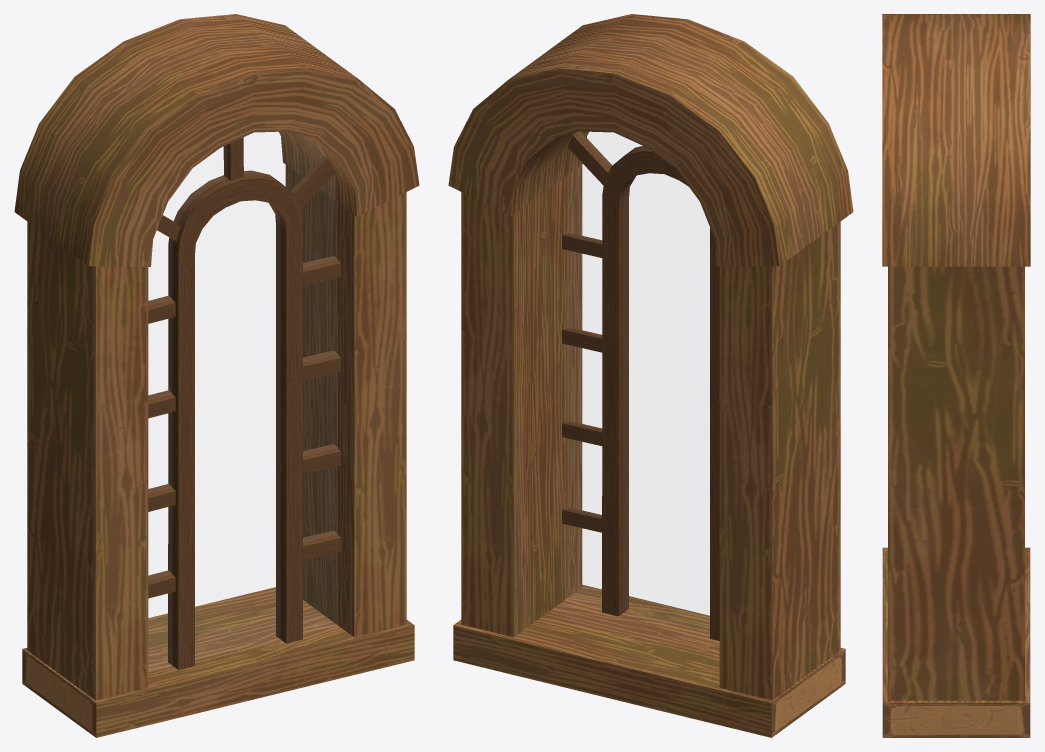
The model's file is Window_Thin_Round1.gltf.
3 views of the same model, side by side, from view 1: azimuth 30°, elevation 25°; view 2: azimuth 150°, elevation 25°; view 3: azimuth 270°, elevation 25° (orthographic).
Parts seen in each view (by area): view 1: Window_Thin_Round1; view 2: Window_Thin_Round1; view 3: Window_Thin_Round1.
Part boxes in pixels (x1,y1,x2,y2): Window_Thin_Round1: [14, 14, 419, 737]; Window_Thin_Round1: [448, 14, 853, 737]; Window_Thin_Round1: [882, 14, 1030, 737].
Bounding box in the file's own units: 0.8876 × 1.6 × 0.3444.
Materials: 2 (1 with a texture image).
